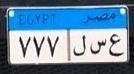7: (47, 34, 63, 59), (18, 35, 31, 59), (32, 35, 45, 57)
ain: (109, 32, 122, 58)
laam: (72, 33, 88, 60)
seen: (89, 36, 108, 57)
